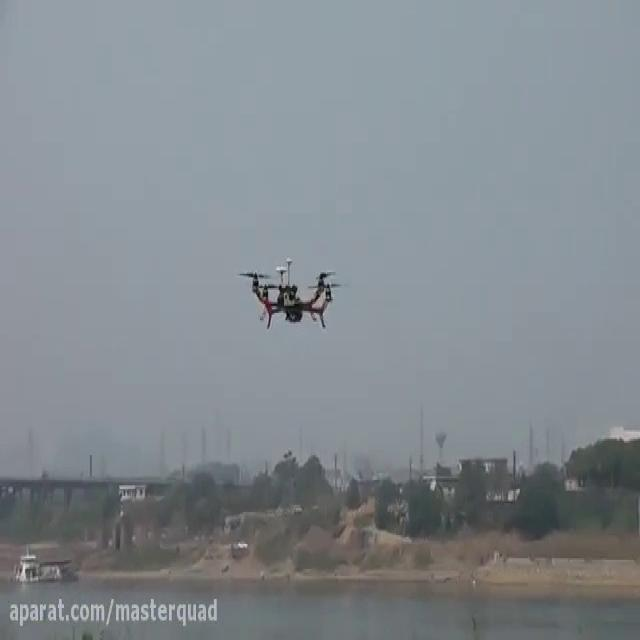drone: (234, 252, 348, 330)
